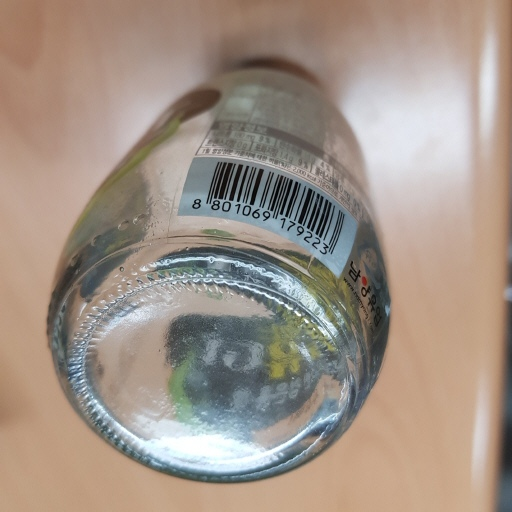Glass_4: (41, 57, 398, 475)
